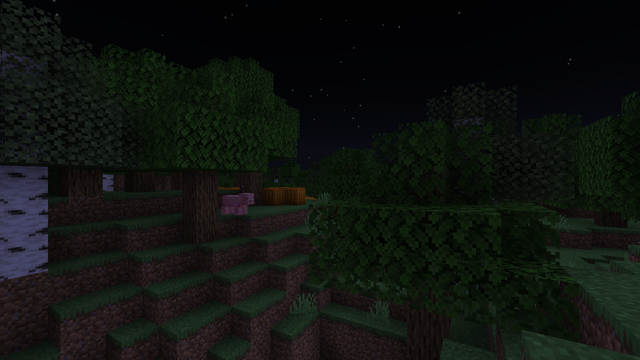cochons: (221, 194, 249, 215)
